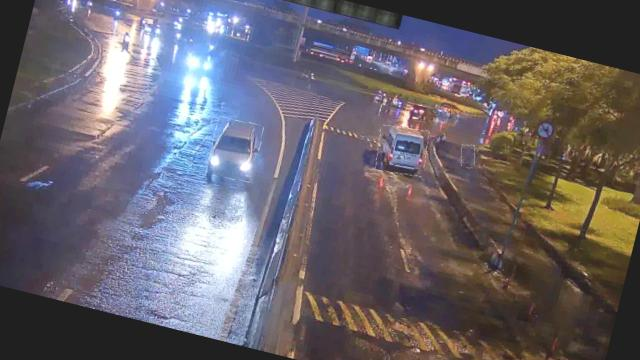Bike: (458, 143, 478, 169)
Bus: (372, 122, 432, 180)
Car: (204, 116, 264, 185), (404, 103, 430, 124)
